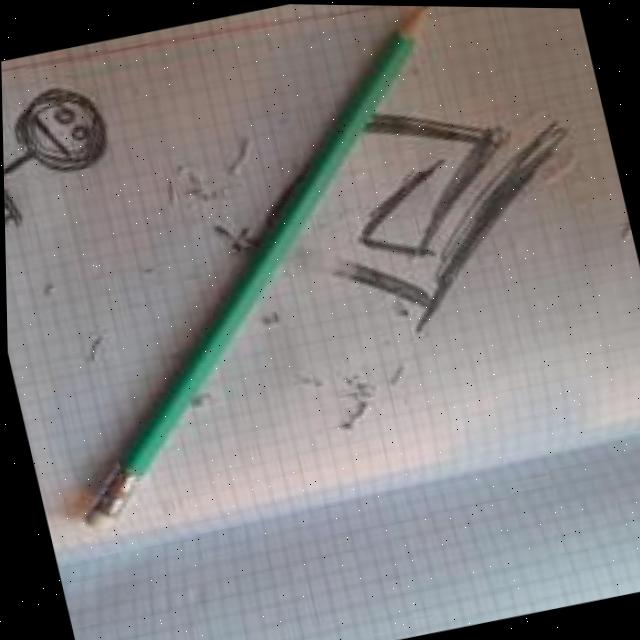pencil: (61, 5, 449, 551)
